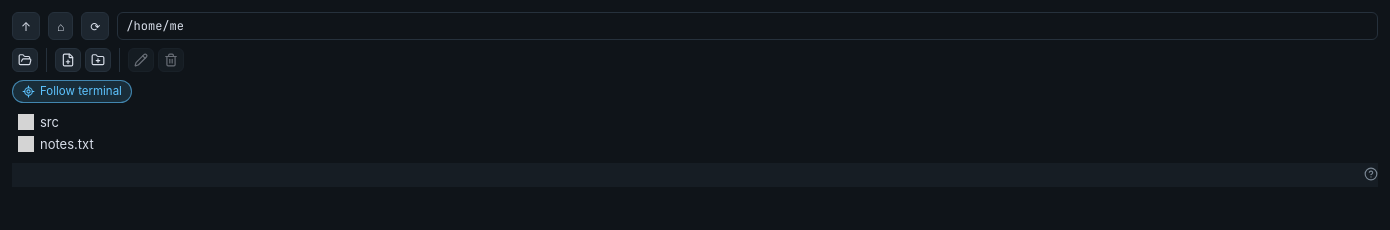
Test: LocalPanel › opens a file in its default program on double-click
Double-click the text "notes.txt" at (67, 144), box [40, 136, 94, 152]
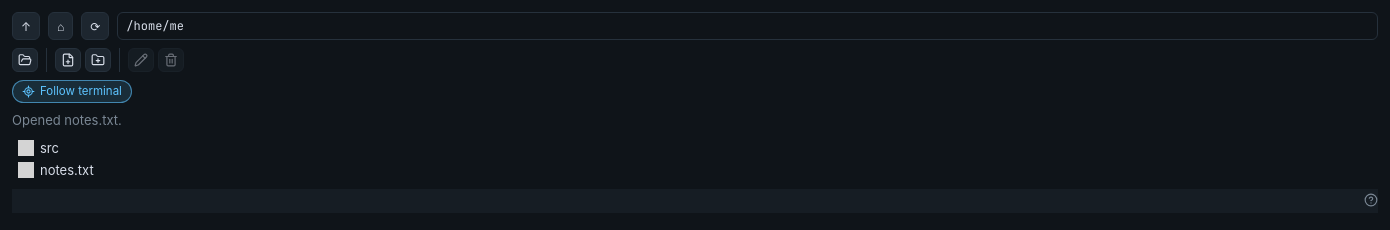
Expected: the text "Opened notes.txt." is shown, [12, 112, 122, 128]
